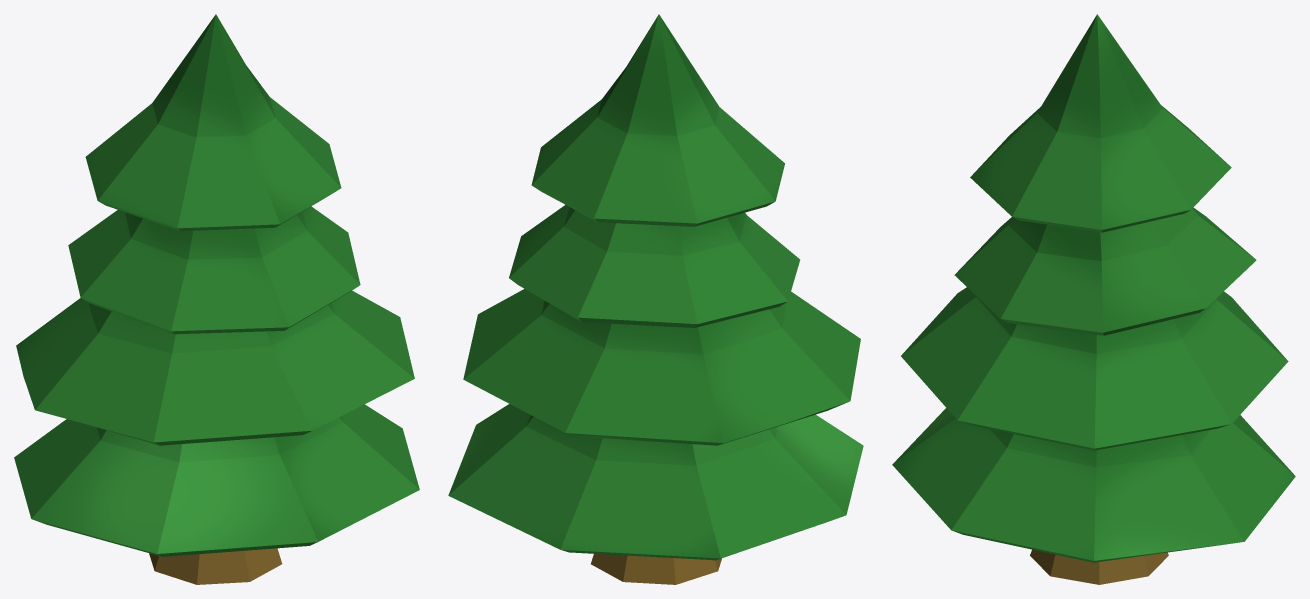
The model's file is WinterTree1.glb.
3 views of the same model, side by side, from view 1: azimuth 30°, elevation 25°; view 2: azimuth 150°, elevation 25°; view 3: azimuth 270°, elevation 25° (orthographic).
Parts seen in each view (by area): view 1: Cylinder.004, Cylinder; view 2: Cylinder.004, Cylinder; view 3: Cylinder.004, Cylinder.
Part boxes in pixels (x1,y1,x2,y2): Cylinder.004: (14,14,419,556); Cylinder: (149,548,282,584); Cylinder.004: (448,14,863,560); Cylinder: (591,554,721,584); Cylinder.004: (892,14,1295,562); Cylinder: (1030,549,1168,584).
Size of the model in its own units: 7.48 by 10.44 by 7.06.
Materials: 2 (2 with a texture image).
